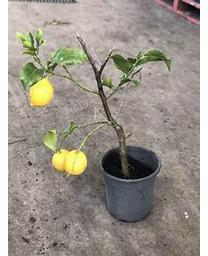lemon: (29, 79, 54, 108), (66, 150, 86, 174), (52, 149, 69, 170)
